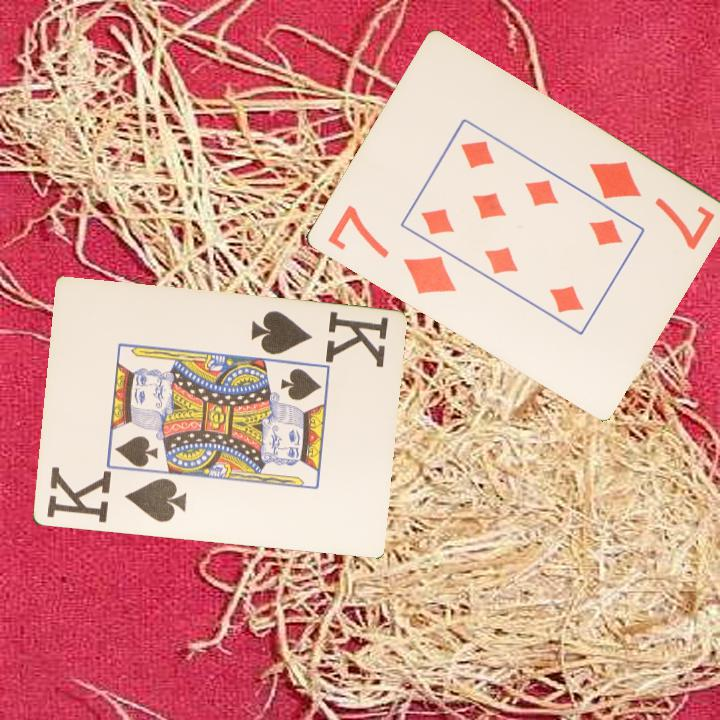7d: (323, 201, 459, 298), (585, 157, 717, 254)
Ks: (246, 307, 391, 370), (42, 464, 189, 526)
